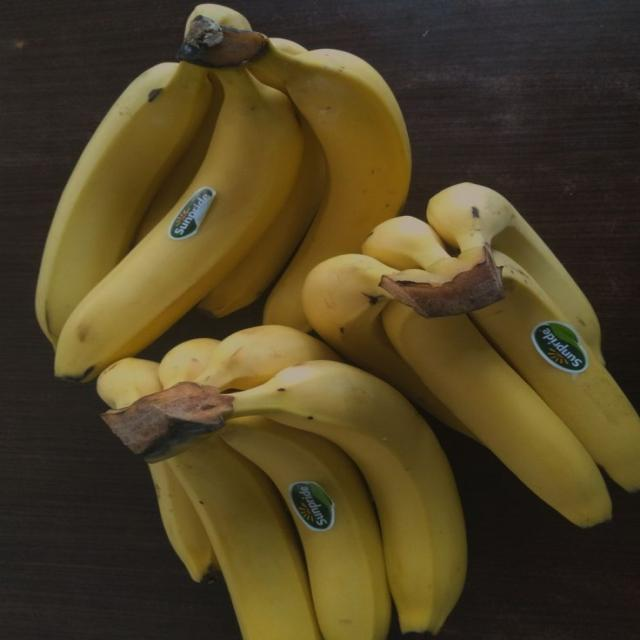unpeal banana: (163, 361, 466, 632), (55, 67, 303, 380), (187, 27, 411, 330), (382, 301, 611, 527), (35, 62, 211, 345), (469, 249, 639, 490), (471, 250, 639, 491), (220, 416, 391, 639), (167, 435, 321, 639), (427, 183, 601, 360), (303, 254, 469, 434), (198, 121, 326, 317), (136, 74, 222, 241), (185, 325, 340, 390), (149, 462, 218, 581), (159, 338, 220, 388)
